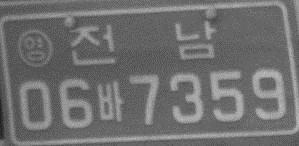0: (18, 78, 52, 131)
3: (168, 73, 204, 125)
5: (208, 70, 244, 122)
6: (58, 78, 93, 130)
7: (127, 73, 161, 125)
9: (251, 68, 287, 120)
바: (96, 81, 125, 123)
영: (16, 28, 53, 68)
전남_D: (68, 21, 218, 66)
